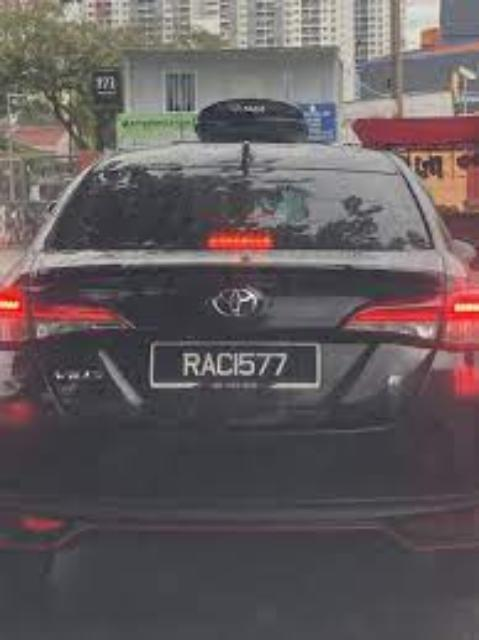License_Plate: (148, 336, 327, 397)
car: (3, 139, 479, 580)
